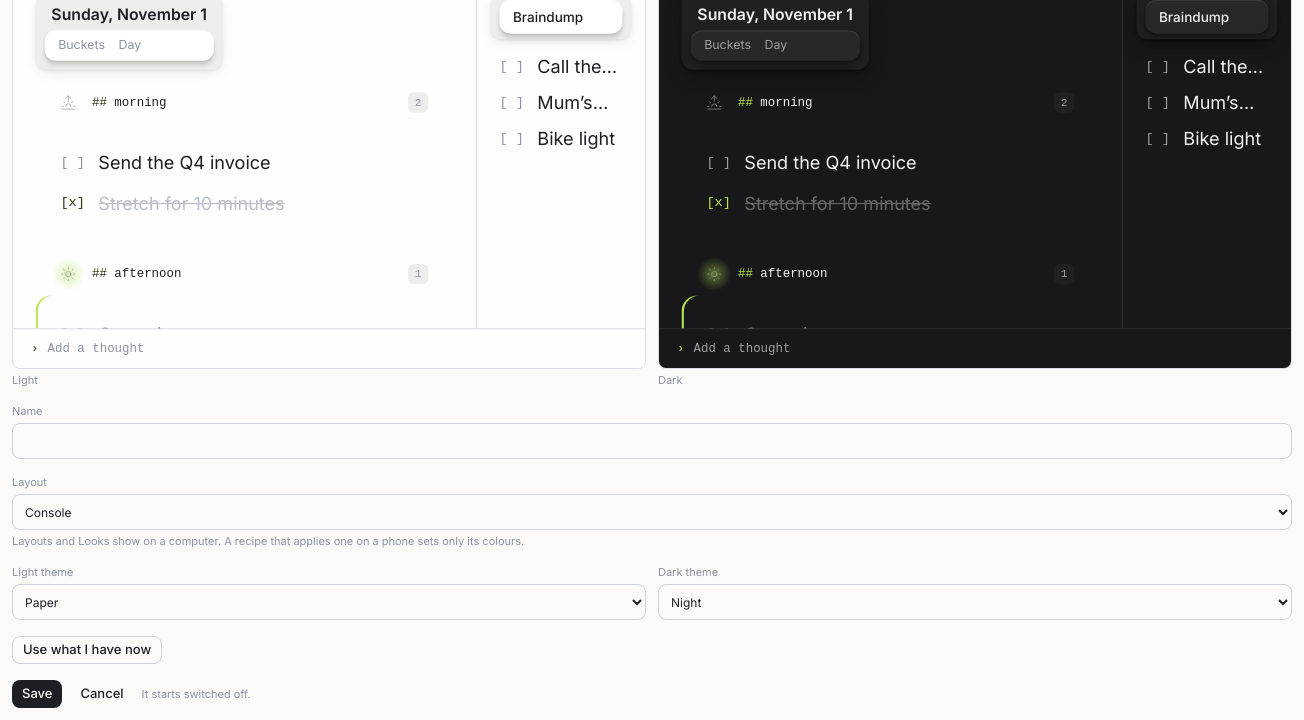
Scenario: LookBuilder › "Use what I have now" does not wait on the theme registry (empty, or in safe mode)
(page scrolled)
Click the button with test id "look-use-current" at {"x": 87, "y": 650}, box [12,636,162,664]
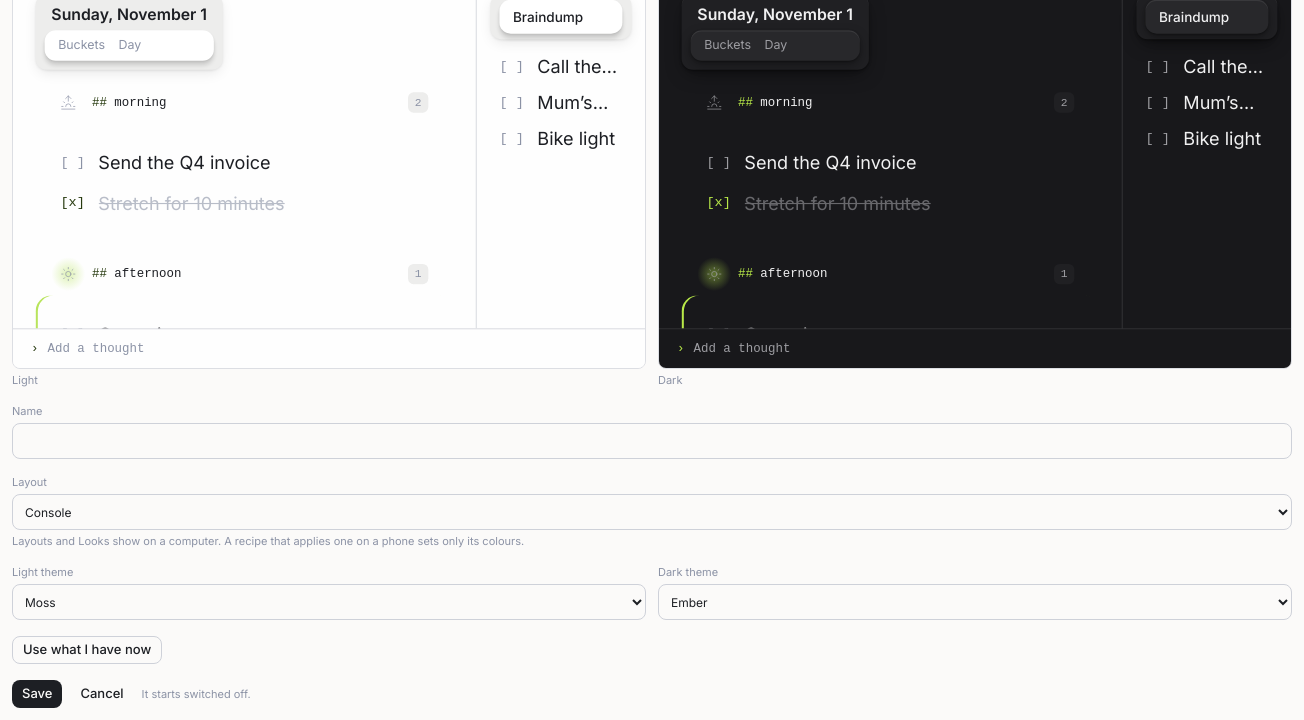
Check: the dropdown with test id "look-light" shows "Moss", box [12,584,646,620]
Check: the dropdown with test id "look-dark" shows "Ember", box [658,584,1292,620]
